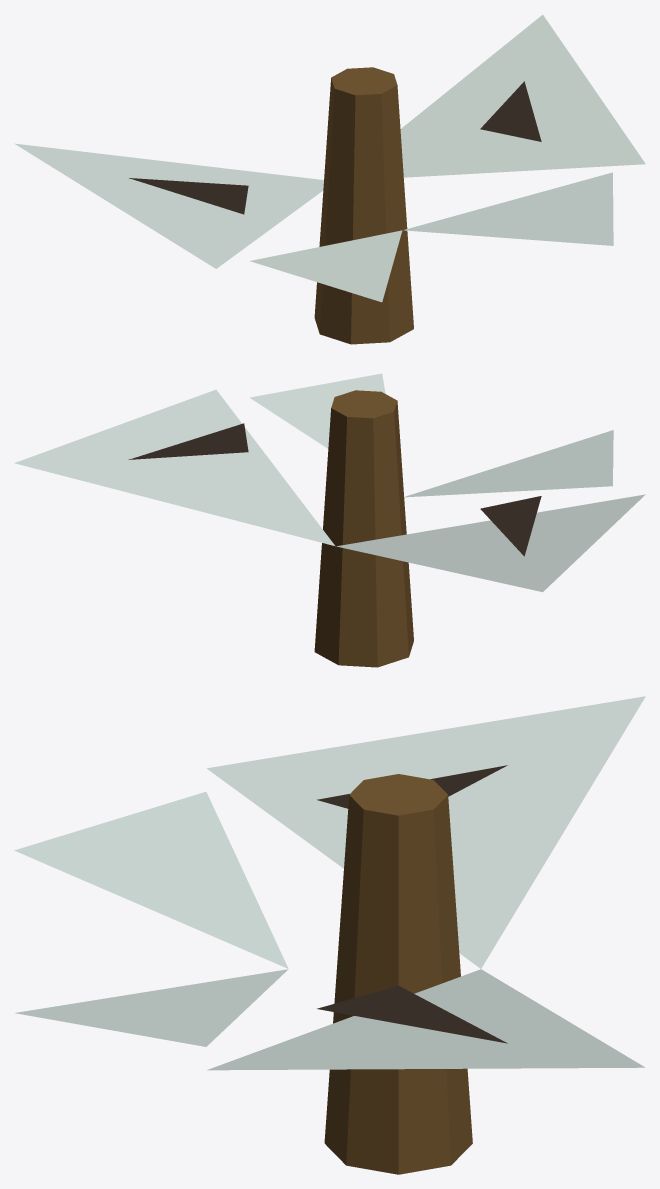
Rendered from bee.glb.
3 renders of one model, top to bottom at view 1: azimuth 30°, elevation 25°; view 2: azimuth 150°, elevation 25°; view 3: azimuth 270°, elevation 25°, orthographic. The views are drawn at different scales.
Visible parts, largest first — view 1: bee; view 2: bee; view 3: bee.
Boxes of the visible parts, x1=… form: bee: x1=14, y1=14, x2=645, y2=344; bee: x1=14, y1=373, x2=645, y2=667; bee: x1=14, y1=696, x2=645, y2=1174.
Bounding box in the file's own units: 0.32 × 0.14 × 0.23.
